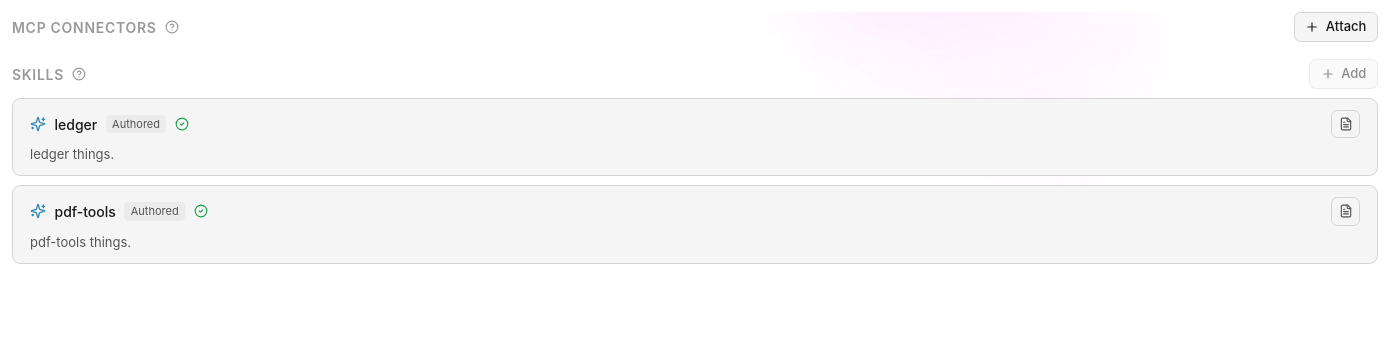
Test: the Skills section › shows a failed reveal inside that skill’s card, last
What coordinates should you click on to do the following:
click the button named "Reveal SKILL.md of pdf-tools"
I would click on:
 (1346, 211)
Its box is [1331,197,1360,226].
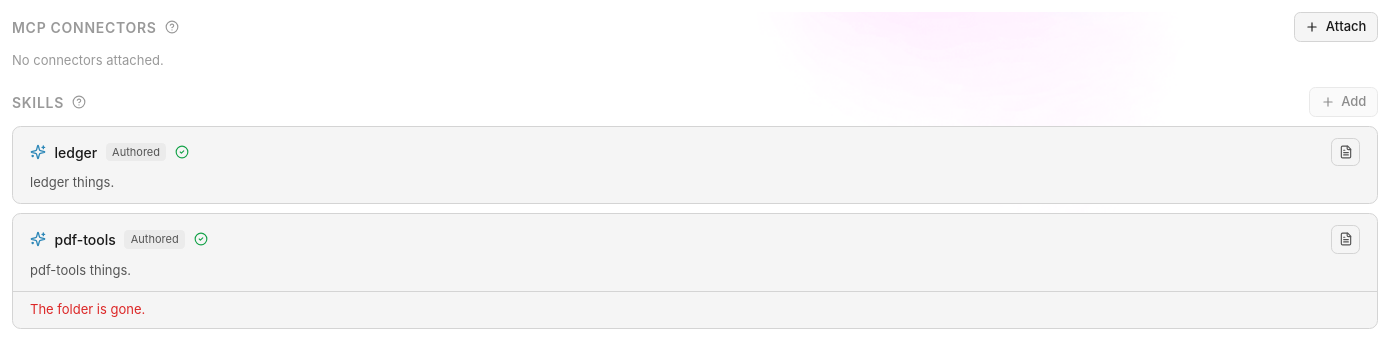
Now the message reads "The folder is gone.", box [30,301,145,317]
